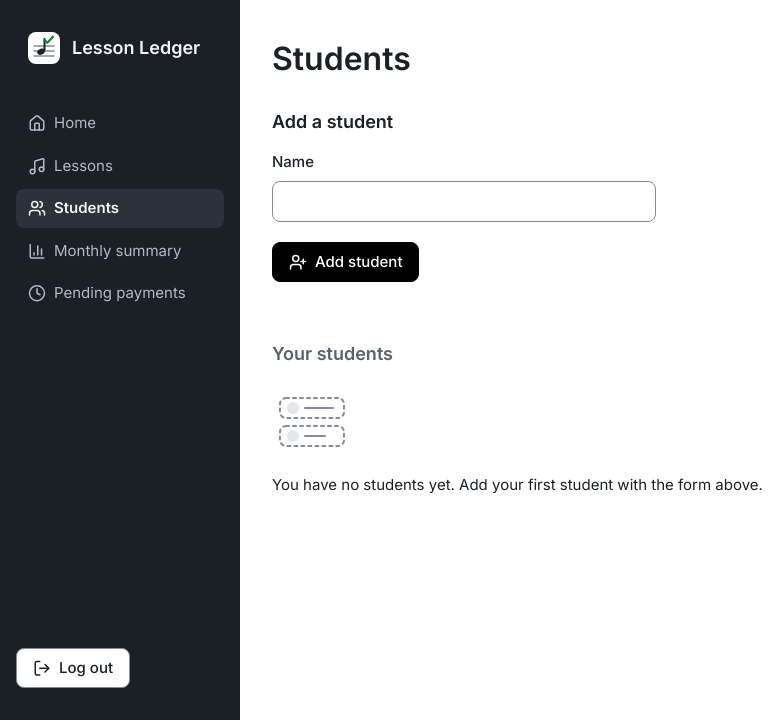
Test case: AC-1 students page › rejects a name that is empty without a request
Check: the heading "Students" is shown, box [272,39,411,78]
Check: the text "You have no students yet. Add your first student with the form above." is shown, box [272,476,763,494]
Click the button "Add student".
click(346, 262)  # box [272,242,420,282]
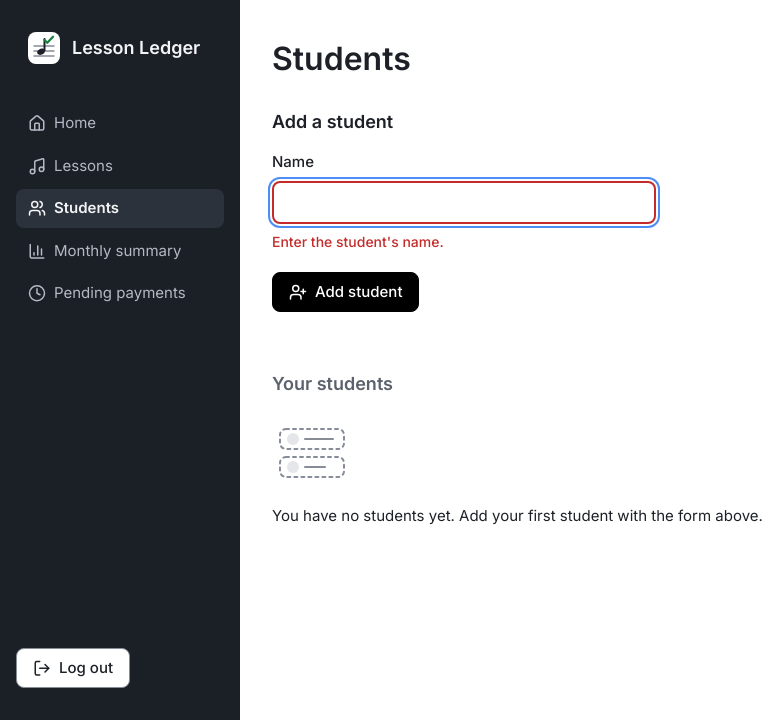
Type "a" into the field labelled "Name".
click(464, 202); type("a")  # box [272,181,656,224]
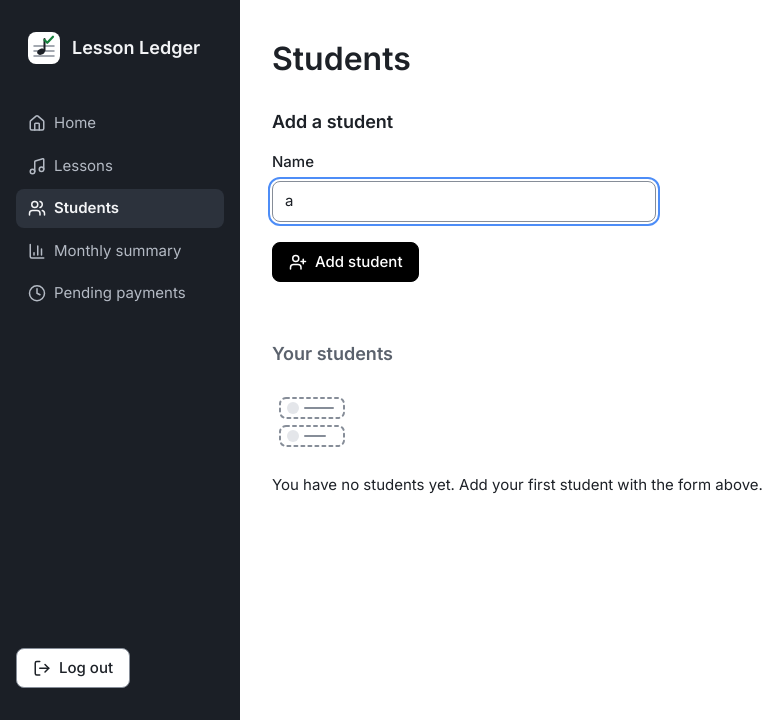
Check: the text "Enter the student's name." is gone
